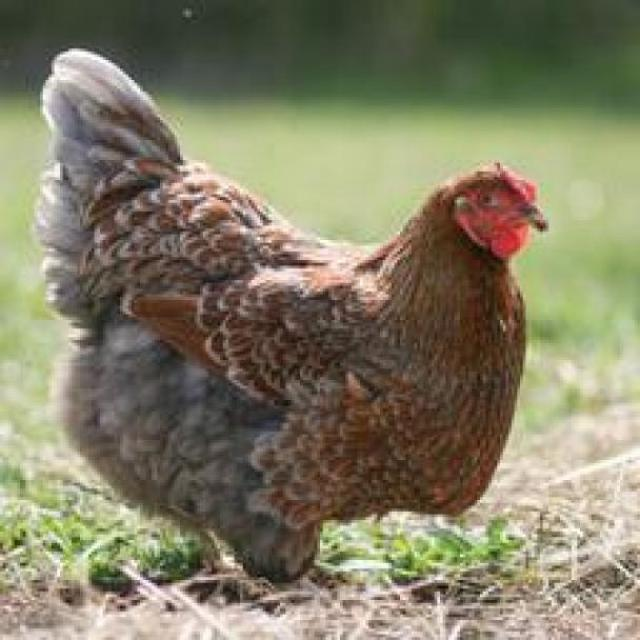Chicken: (39, 46, 564, 609)
